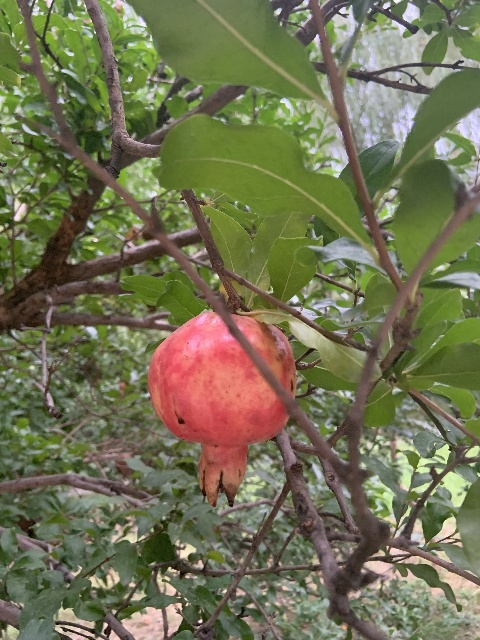ripe: (146, 310, 296, 506)
